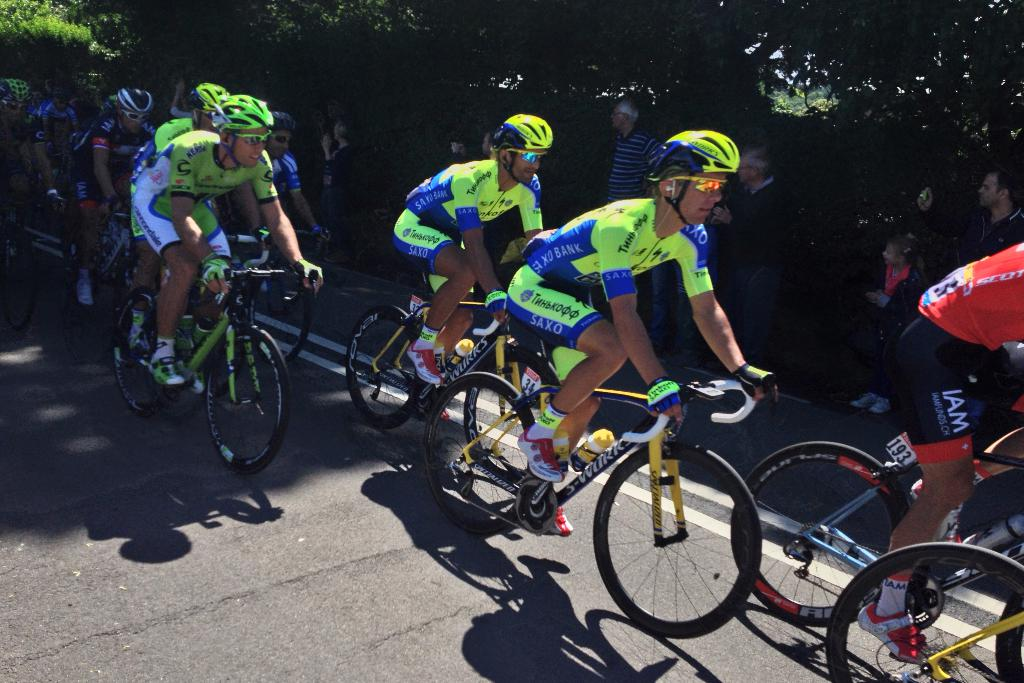Bicycle: (421, 372, 761, 638), (730, 374, 1023, 682), (345, 270, 561, 475), (112, 265, 315, 474), (820, 537, 1023, 682), (64, 188, 159, 315), (0, 137, 96, 262), (227, 229, 310, 363)
